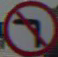Don't turn left: (0, 3, 48, 47)
